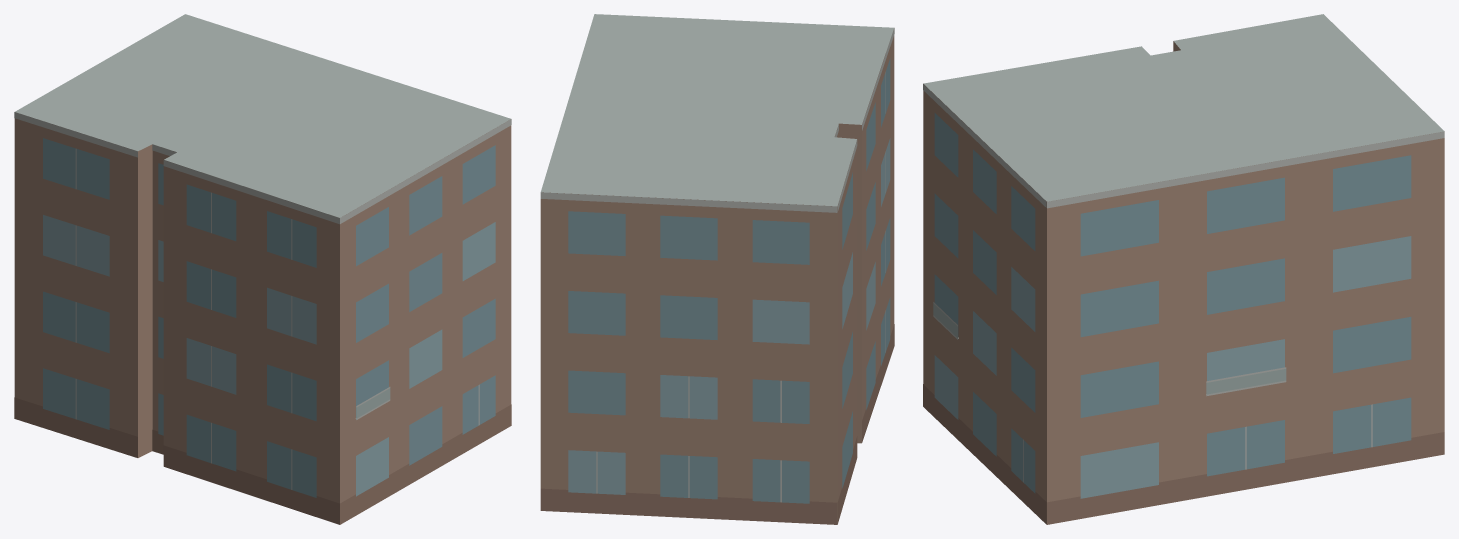
The model's file is survey-upis-32595823.glb.
The picture shows the model from 3 angles, left to right: view 1: azimuth 30°, elevation 25°; view 2: azimuth 150°, elevation 25°; view 3: azimuth 270°, elevation 25°; orthographic projection. The views are drawn at different scales.
Parts seen in each view (by area): view 1: survey-upis-32595823.tmp; view 2: survey-upis-32595823.tmp; view 3: survey-upis-32595823.tmp.
Part boxes in pixels (x1=…): survey-upis-32595823.tmp: x1=14, y1=14, x2=511, y2=524; survey-upis-32595823.tmp: x1=540, y1=14, x2=894, y2=524; survey-upis-32595823.tmp: x1=923, y1=14, x2=1444, y2=524.
Size of the model in its own units: 14.84 by 11.9 by 17.42.
